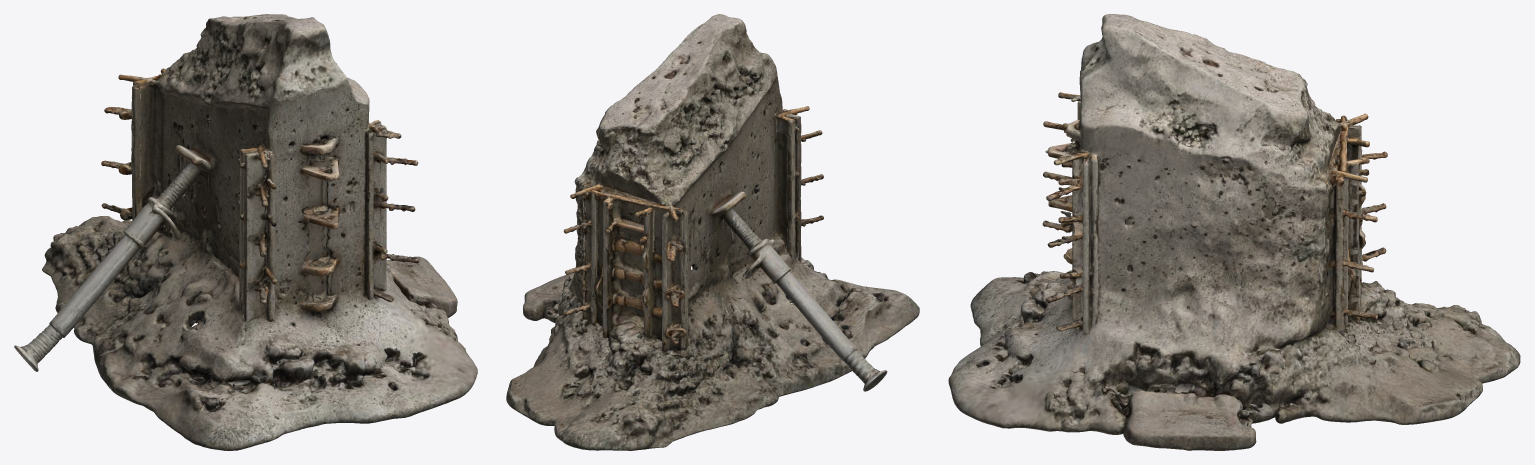
Rendered from Damaged- Concrete.glb.
3 views of the same model, side by side, from view 1: azimuth 30°, elevation 25°; view 2: azimuth 150°, elevation 25°; view 3: azimuth 270°, elevation 25° (orthographic). The views are drawn at different scales.
Visible parts, largest first — view 1: texture_mapping; view 2: texture_mapping; view 3: texture_mapping.
Part boxes in pixels (left/top/right/bottom): texture_mapping: left=14, top=14, right=477, bottom=450; texture_mapping: left=506, top=14, right=919, bottom=450; texture_mapping: left=948, top=14, right=1520, bottom=450.
Size of the model in its own units: 0.8554 by 0.688 by 1.
Materials: 1 (1 with a texture image).
